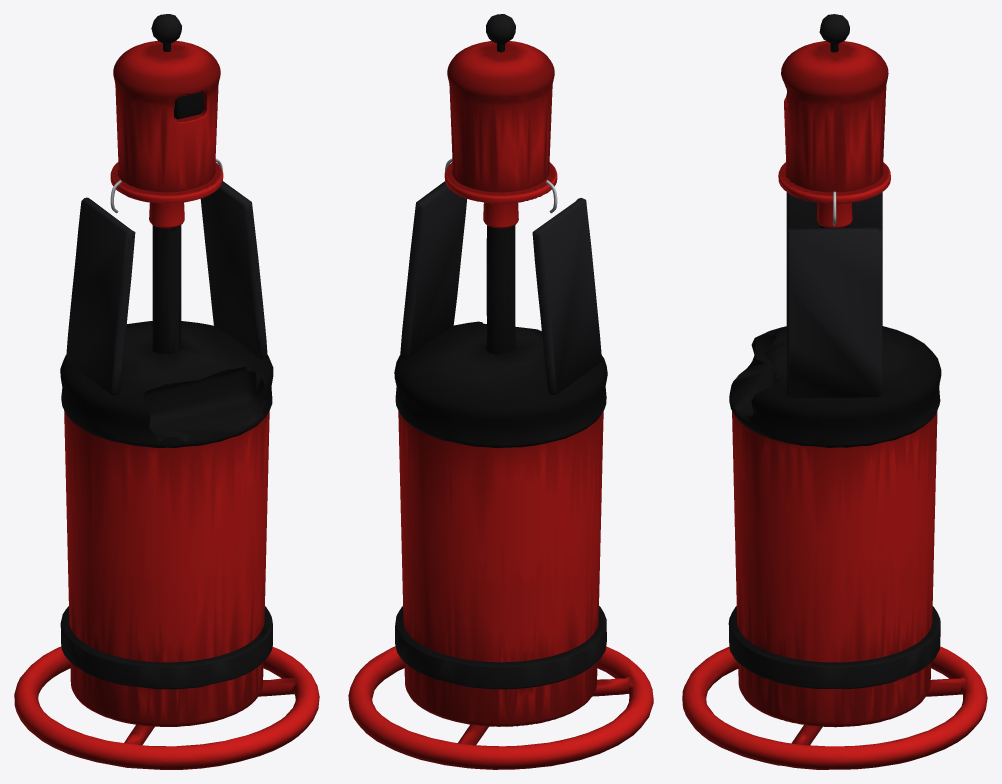
Rendered from ball_washer.glb.
The picture shows the model from 3 angles, left to right: view 1: azimuth 30°, elevation 25°; view 2: azimuth 150°, elevation 25°; view 3: azimuth 270°, elevation 25°; orthographic projection.
Visible parts, largest first — view 1: ball_washer; view 2: ball_washer; view 3: ball_washer.
Boxes of the visible parts, x1,y1,x2,y2 form: ball_washer: (14,14,319,769); ball_washer: (348,14,653,769); ball_washer: (682,14,987,769).
Bounding box in the file's own units: 0.5097 × 1.28 × 0.5091.
